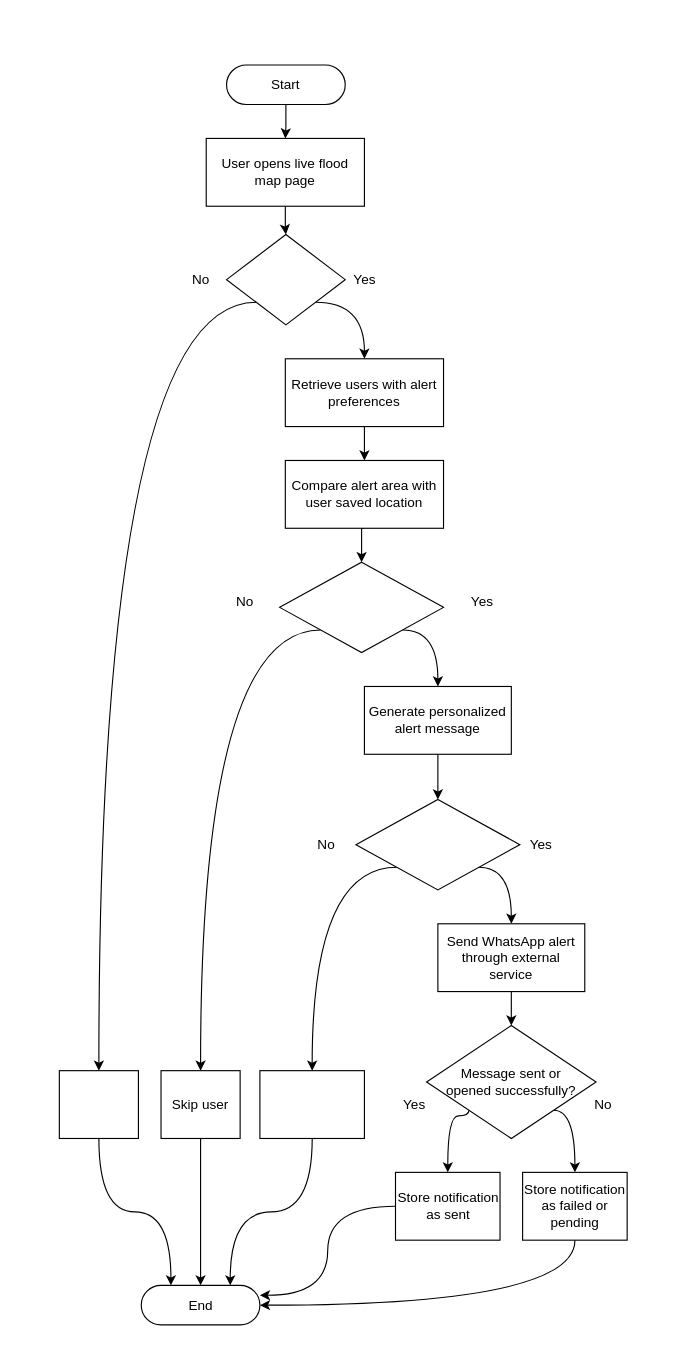
Some shapes in this 681 by 1366 pixel diagram are drawn without their labels. The centre of each missing label's shape, as x and y in pixels:
Is there a new alert?: the point at 285,279
Is user within affected area?: the point at 361,607
No action required: the point at 98,1104
Notification preferences enabled?: the point at 437,844
Store in-app notification only: the point at 311,1104
